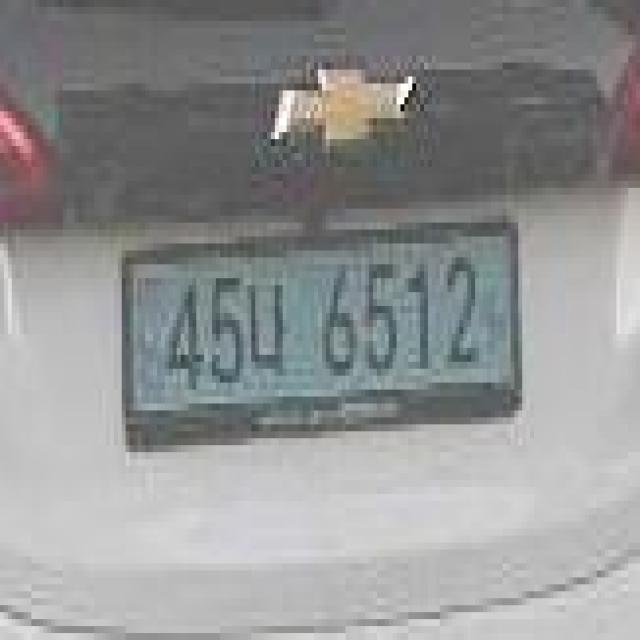EV_plate: (114, 213, 534, 453)
